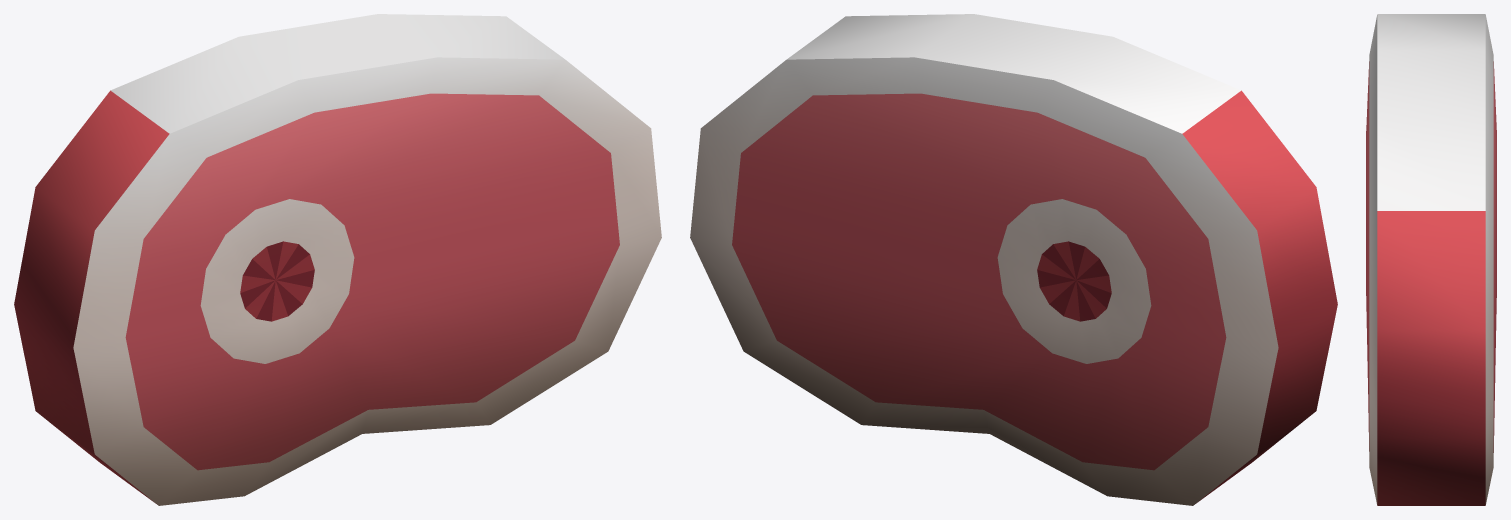
File: food_meat_raw.glb
3 renders of one model, left to right at view 1: azimuth 30°, elevation 25°; view 2: azimuth 150°, elevation 25°; view 3: azimuth 270°, elevation 25°, orthographic. The views are drawn at different scales.
Visible parts, largest first — view 1: Item; view 2: Item; view 3: Item.
Part boxes in pixels (left/top/right/bottom): Item: left=14, top=14, right=661, bottom=505; Item: left=690, top=14, right=1337, bottom=505; Item: left=1366, top=14, right=1496, bottom=505.
Bounding box in the file's own units: 0.55 × 0.36 × 0.116.
1 material, 1 textured.
